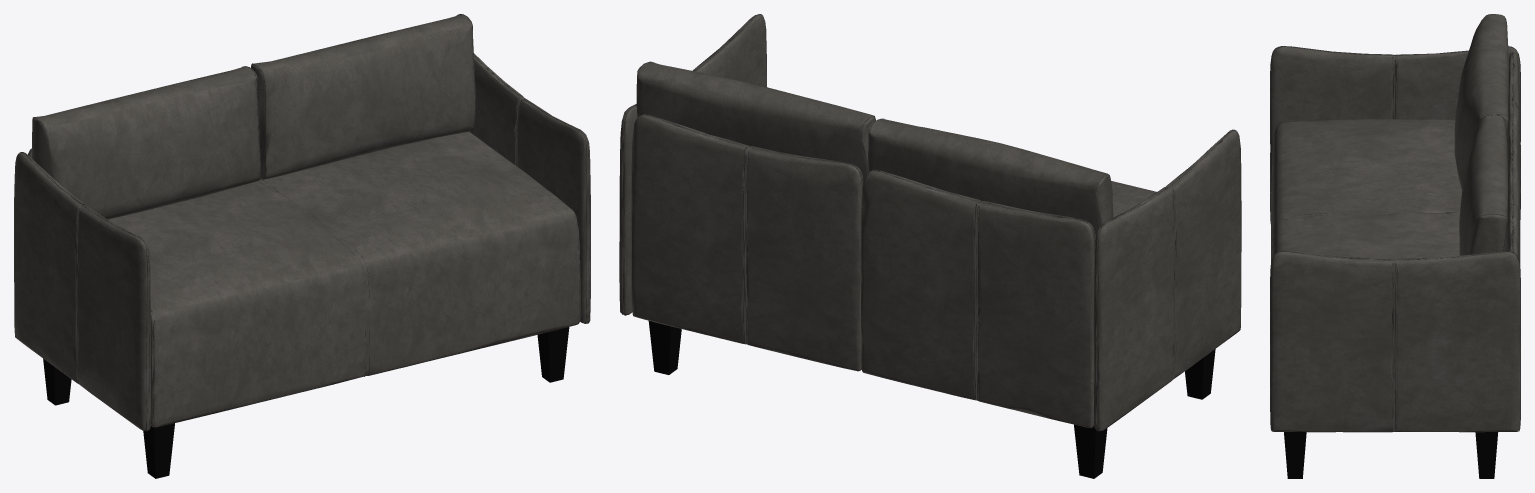
File: ZIPC4022_v6_LOD2.obj
3 views of the same model, side by side, from view 1: azimuth 30°, elevation 25°; view 2: azimuth 150°, elevation 25°; view 3: azimuth 270°, elevation 25° (orthographic). The views are drawn at different scales.
Parts seen in each view (by area): view 1: not_clear_obj_1_v6, not_clear_obj_0_v6, not_clear_obj_2_v6; view 2: not_clear_obj_1_v6, not_clear_obj_0_v6, not_clear_obj_2_v6; view 3: not_clear_obj_1_v6, not_clear_obj_2_v6, not_clear_obj_0_v6.
Part boxes in pixels (left/top/right/bottom): not_clear_obj_1_v6: left=14, top=14, right=590, bottom=431; not_clear_obj_0_v6: left=43, top=327, right=569, bottom=478; not_clear_obj_2_v6: left=20, top=14, right=589, bottom=431; not_clear_obj_1_v6: left=619, top=14, right=1241, bottom=431; not_clear_obj_0_v6: left=648, top=321, right=1215, bottom=478; not_clear_obj_2_v6: left=621, top=14, right=1236, bottom=431; not_clear_obj_1_v6: left=1270, top=14, right=1520, bottom=432; not_clear_obj_2_v6: left=1270, top=14, right=1520, bottom=431; not_clear_obj_0_v6: left=1284, top=432, right=1498, bottom=478.
Size of what is drawn, in the model's own units: 132 by 79.5 by 66.5.
Materials: 3 (1 with a texture image).
